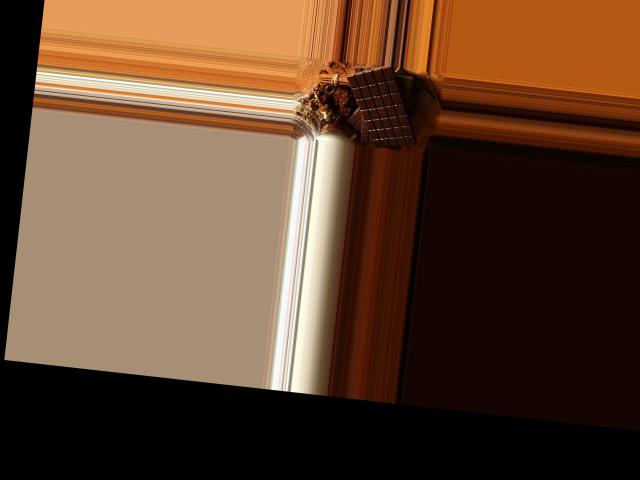chocolate: (335, 61, 425, 149)
